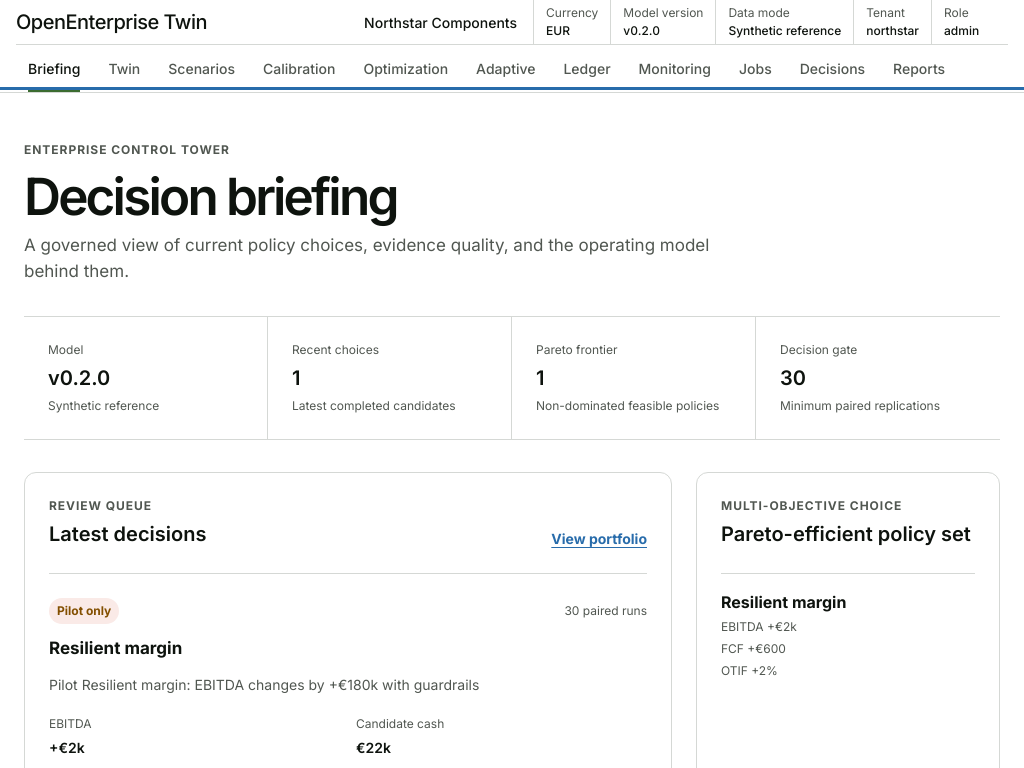
enterprise control tower › makes Twin, Decisions and Reports operational destinations
The image size is (1024, 768).
Expected: the heading "Decision briefing" is shown, x1=24 y1=165 x2=397 y2=227
Click the link "Twin". click: {"x": 124, "y": 68}
box: x1=108 y1=60 x2=140 y2=76
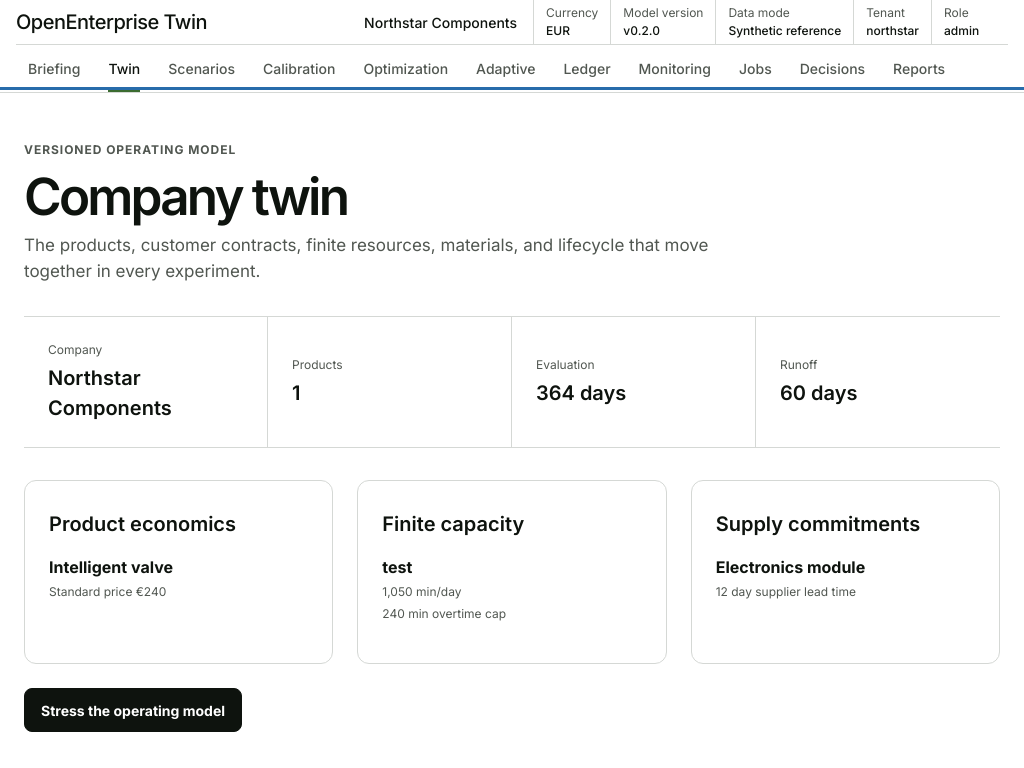
Result: the heading "Company twin" is shown at x1=24 y1=165 x2=347 y2=227
Result: the text "Intelligent valve" is shown at x1=49 y1=557 x2=173 y2=577
Click the link "Decisions". click: {"x": 832, "y": 68}
box: x1=800 y1=60 x2=865 y2=76
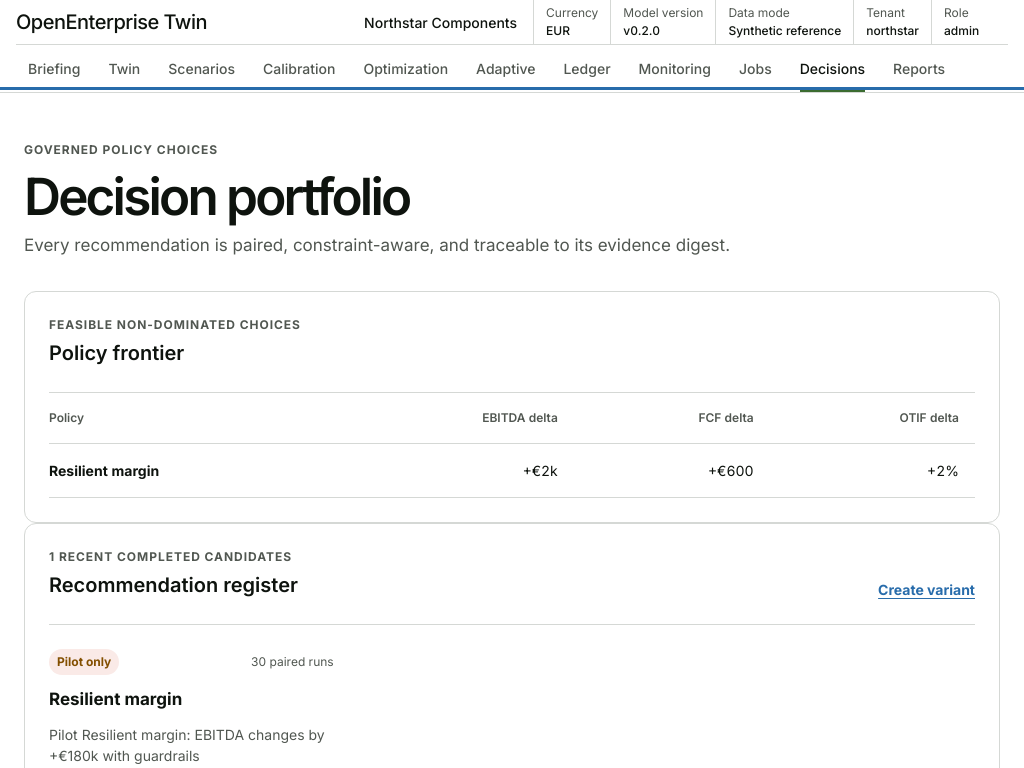
Result: the heading "Decision portfolio" is shown at x1=24 y1=165 x2=409 y2=227
Click the link "Reports". click: {"x": 919, "y": 68}
box: x1=893 y1=60 x2=945 y2=76
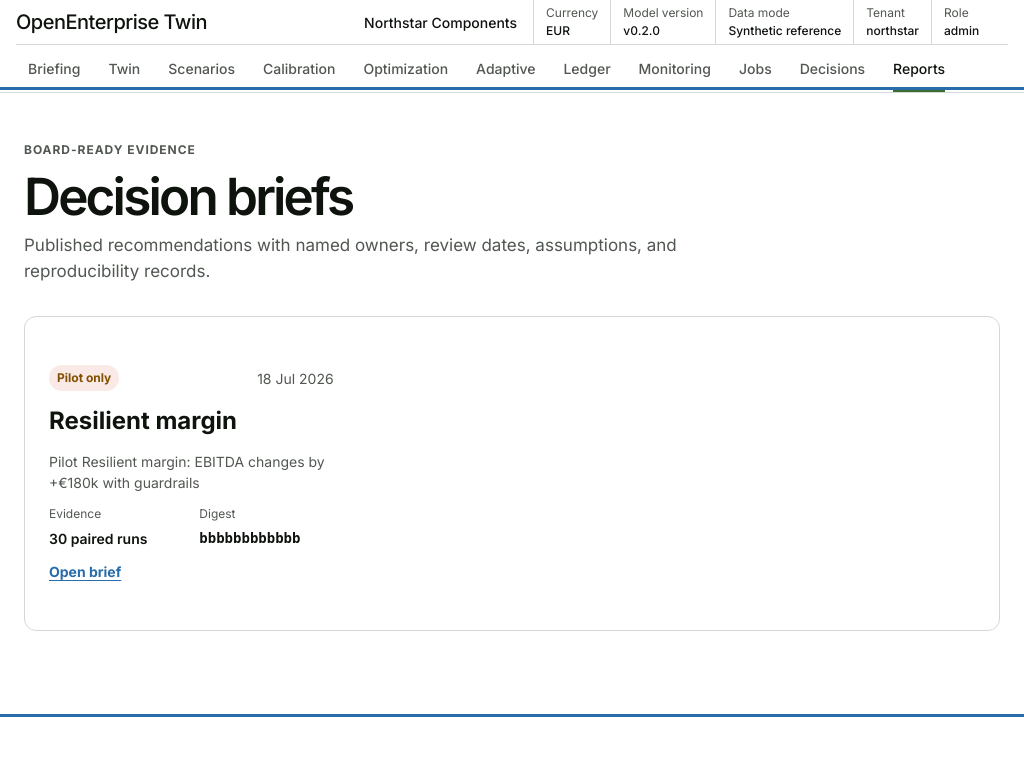
Result: the heading "Decision briefs" is shown at x1=24 y1=165 x2=352 y2=227
